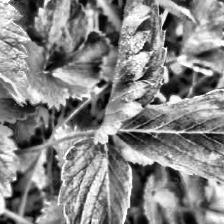Powdery Mildew Leaf: (94, 0, 168, 145)
